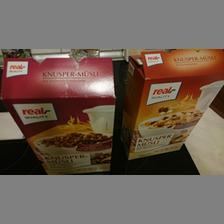Cerealien: (0, 56, 116, 172), (121, 52, 223, 160)
